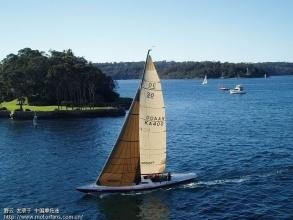fanchuan: (75, 48, 199, 198)
